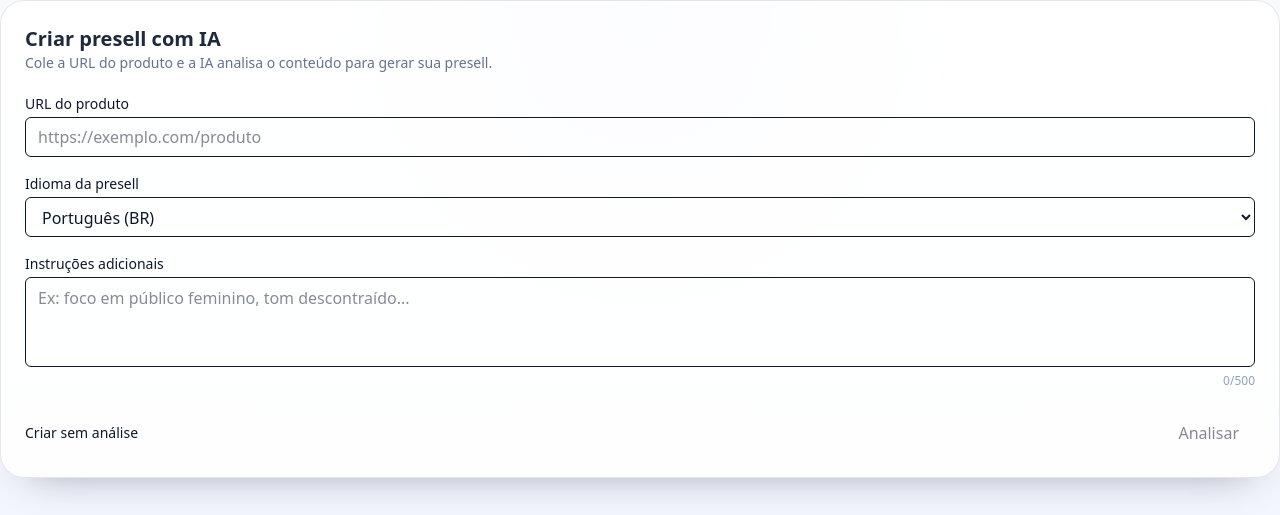
Scenario: ConfigStep › enables the Analisar button when URL is valid
Type "https://example.com" into the field labelled "URL do produto". click: (640, 137)
box: [25,117,1255,157]
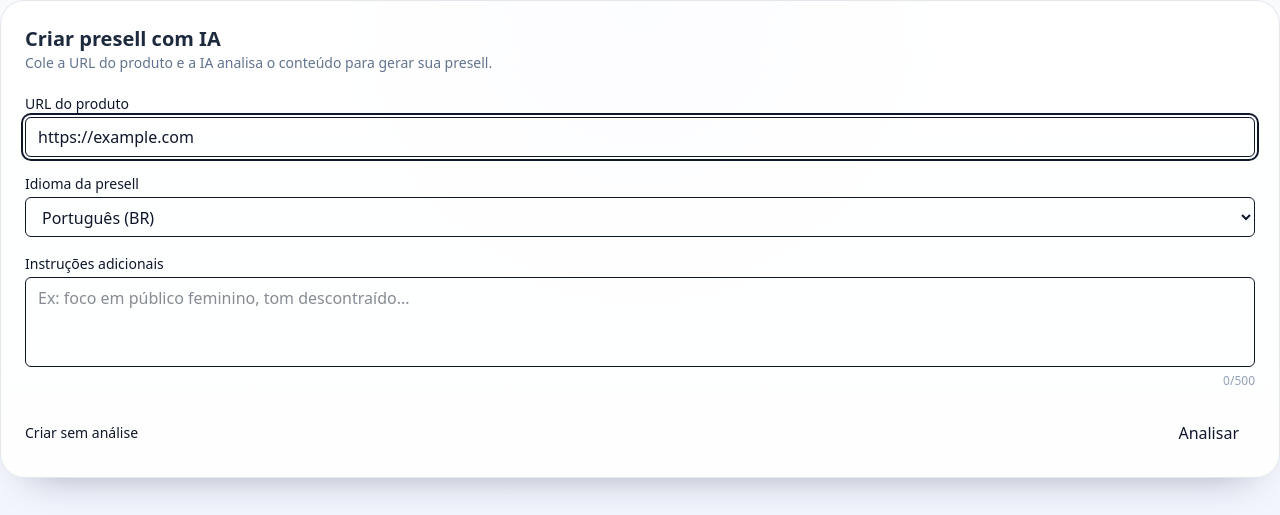
Expected: the button "Analisar" is enabled, [1162,413,1255,453]
